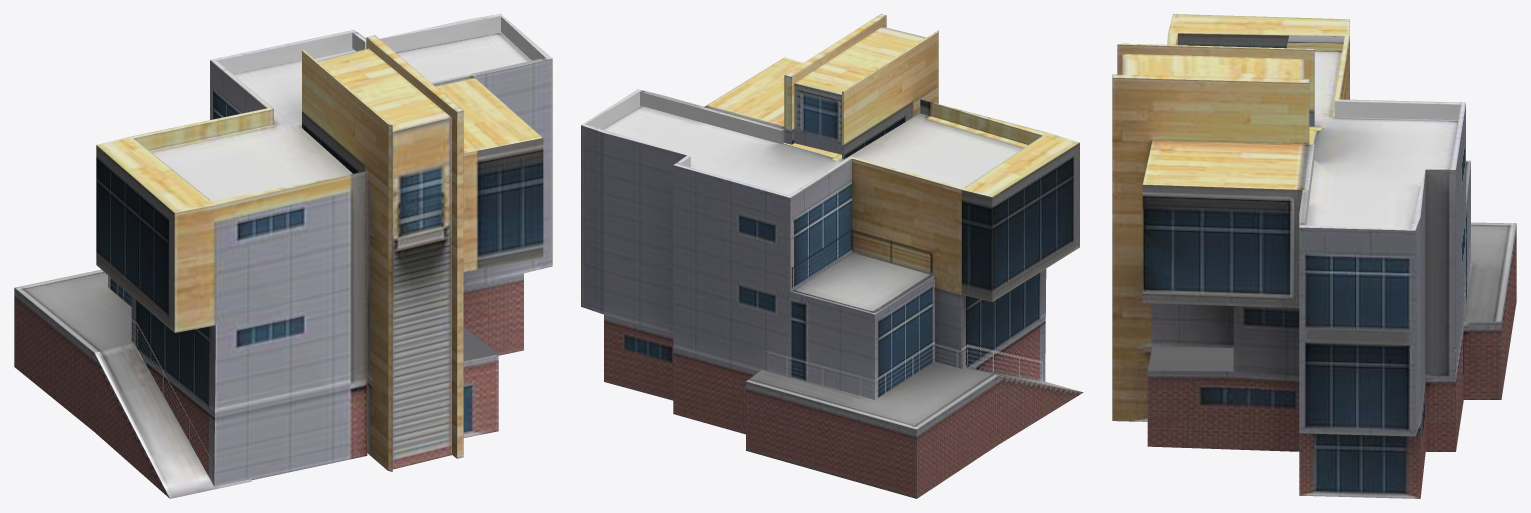
The picture shows the model from 3 angles, left to right: view 1: azimuth 30°, elevation 25°; view 2: azimuth 150°, elevation 25°; view 3: azimuth 270°, elevation 25°; orthographic projection. The views are drawn at different scales.
Parts seen in each view (by area): view 1: MainBuilding; view 2: MainBuilding; view 3: MainBuilding.
Boxes of the visible parts, x1,y1,x2,y2 form: MainBuilding: (14,14,552,498); MainBuilding: (581,14,1083,498); MainBuilding: (1112,14,1516,498).
Bounding box in the file's own units: 1.6 × 1.17 × 1.25.
Materials: 1 (1 with a texture image).
